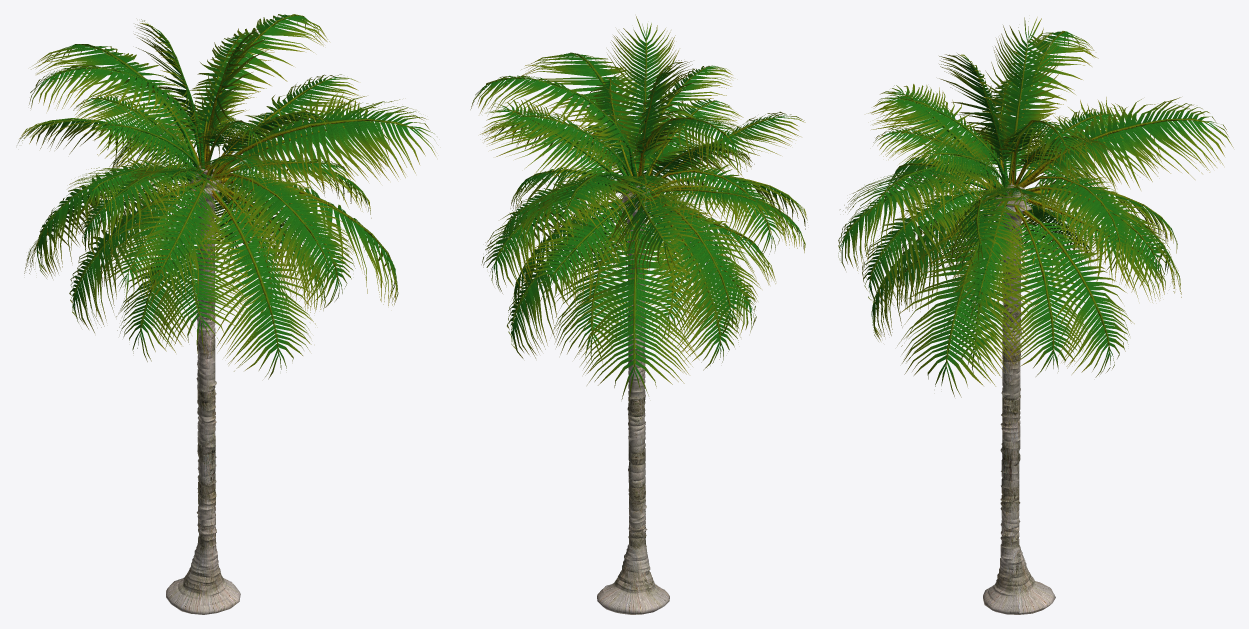
The model's file is arbol1.obj.
3 renders of one model, left to right at view 1: azimuth 30°, elevation 25°; view 2: azimuth 150°, elevation 25°; view 3: azimuth 270°, elevation 25°, orthographic. The views are drawn at different scales.
Visible parts, largest first — view 1: Object__LEAF_jpg, Object_BARK_jpg; view 2: Object__LEAF_jpg, Object_BARK_jpg; view 3: Object__LEAF_jpg, Object_BARK_jpg.
Boxes of the visible parts, box(x1,y1,x2,y2) form: Object__LEAF_jpg: box(18, 14, 435, 379); Object_BARK_jpg: box(166, 163, 240, 614); Object__LEAF_jpg: box(470, 16, 807, 400); Object_BARK_jpg: box(597, 185, 669, 614); Object__LEAF_jpg: box(838, 17, 1233, 397); Object_BARK_jpg: box(983, 183, 1055, 614).
Size of the model in its own units: 0.0418 by 0.0732 by 0.0467.
Materials: 2 (2 with a texture image).
